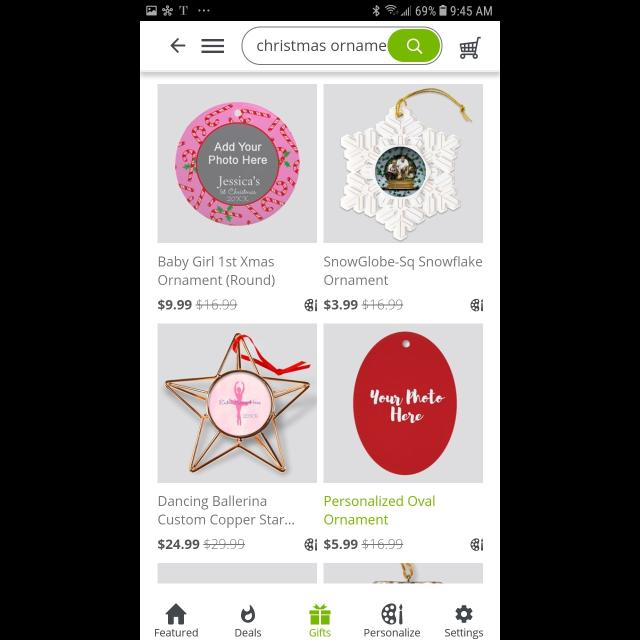icon: (388, 29, 440, 62), (460, 37, 480, 59), (166, 604, 187, 624), (310, 604, 330, 624), (202, 39, 224, 53), (456, 605, 472, 623), (170, 38, 186, 54)
image: (158, 324, 318, 484), (324, 324, 484, 484), (324, 84, 484, 243), (158, 84, 318, 243), (324, 563, 484, 583), (158, 563, 318, 583), (382, 604, 402, 624), (241, 605, 255, 623), (304, 298, 318, 312), (471, 298, 484, 312), (305, 538, 317, 550), (471, 539, 483, 551)
input: (242, 27, 442, 65)
text: (324, 256, 482, 288), (159, 496, 295, 528), (159, 256, 275, 288), (324, 495, 436, 525), (258, 40, 387, 52), (158, 538, 245, 550), (158, 300, 238, 312), (324, 299, 404, 311), (324, 538, 404, 550), (445, 628, 483, 640), (364, 628, 420, 636), (154, 628, 198, 636), (235, 629, 261, 637), (310, 628, 330, 636)
uppertaskbar: (140, 1, 500, 22)
